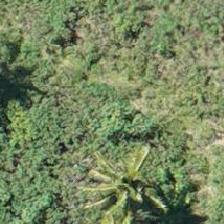coconut_tree: (89, 147, 179, 223)
